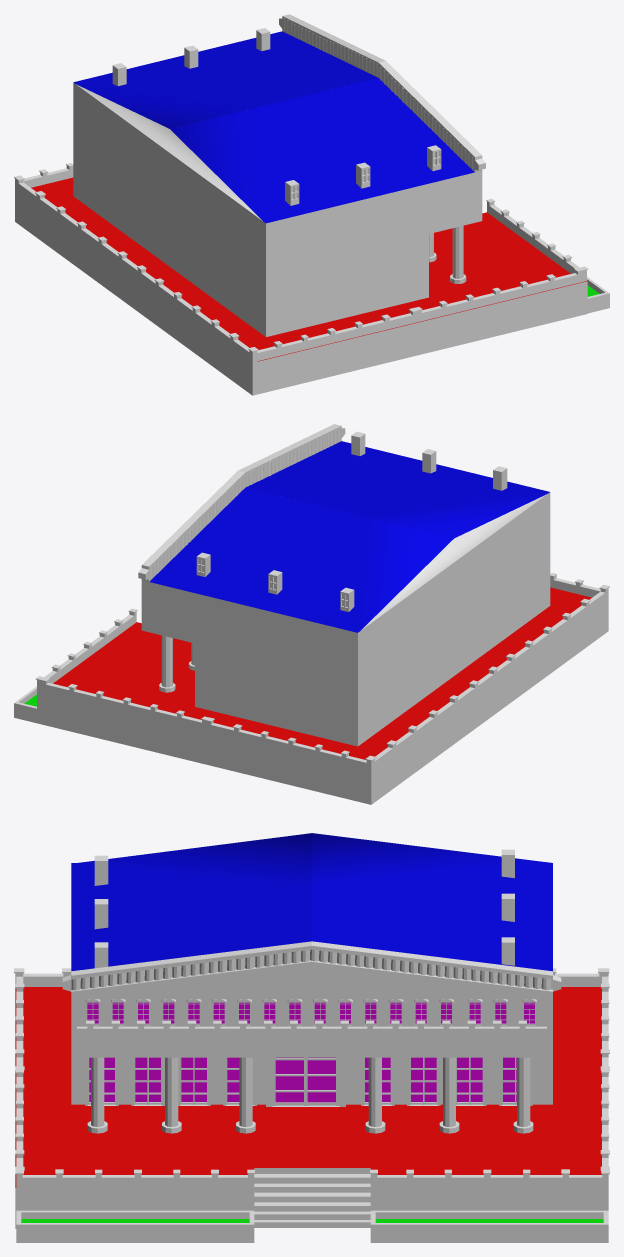
The model's file is The_House.fbx.
3 renders of one model, top to bottom at view 1: azimuth 30°, elevation 25°; view 2: azimuth 150°, elevation 25°; view 3: azimuth 270°, elevation 25°, orthographic. The views are drawn at different scales.
Visible parts, largest first — view 1: House, Base, Guard2, Guard, pCube106, Roof_Guard, Guard1, Pillar, Guard3, Garden; view 2: House, Base, Guard3, Guard, pCube106, Roof_Guard, Guard4, Pillar, Guard2, Garden1; view 3: House, Base, Windows1, Garden1, Garden, Pillar, Windows2, Roof_Guard, Guard4, Guard1, pCube106, Guard2 (+3 smaller).
Part boxes in pixels (x1,y1,x2,y2): House: (73, 14, 485, 336); Base: (15, 177, 587, 395); Guard2: (249, 267, 583, 361); Guard: (14, 175, 258, 362); pCube106: (112, 28, 441, 205); Roof_Guard: (284, 18, 473, 170); Guard1: (486, 198, 588, 281); Pillar: (429, 225, 466, 283); Guard3: (14, 163, 73, 189); Garden: (587, 277, 609, 313); House: (138, 424, 550, 746); Base: (37, 587, 608, 804); Guard3: (40, 677, 373, 771); Guard: (365, 584, 609, 771); pCube106: (196, 431, 507, 611); Roof_Guard: (151, 428, 340, 577); Guard4: (35, 608, 137, 691); Pillar: (159, 635, 194, 692); Guard2: (550, 573, 606, 597); Garden1: (14, 686, 36, 723); House: (62, 833, 561, 1104); Base: (15, 987, 608, 1228); Windows1: (85, 1057, 532, 1106); Garden1: (370, 1210, 608, 1242); Garden: (16, 1210, 254, 1242); Pillar: (87, 1057, 533, 1133); Windows2: (85, 999, 536, 1025); Roof_Guard: (71, 949, 550, 990); Guard4: (370, 1169, 609, 1187); Guard1: (15, 1169, 254, 1187); pCube106: (94, 849, 514, 968); Guard2: (15, 968, 24, 1174).
Size of the model in its own units: 406 by 202 by 468.
